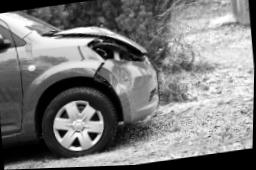Bonnet: (51, 26, 148, 54)
Bumper: (99, 61, 159, 124)
Light: (87, 45, 143, 62)
